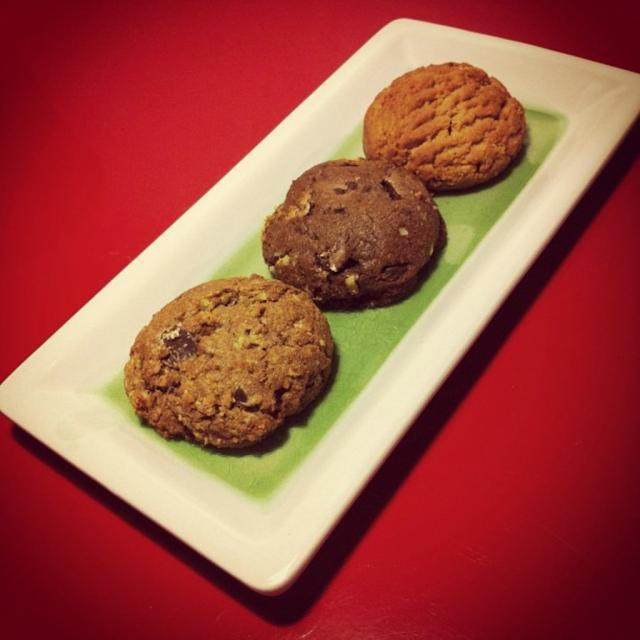Cookie: (130, 270, 332, 452), (254, 155, 444, 312), (359, 57, 530, 197)
